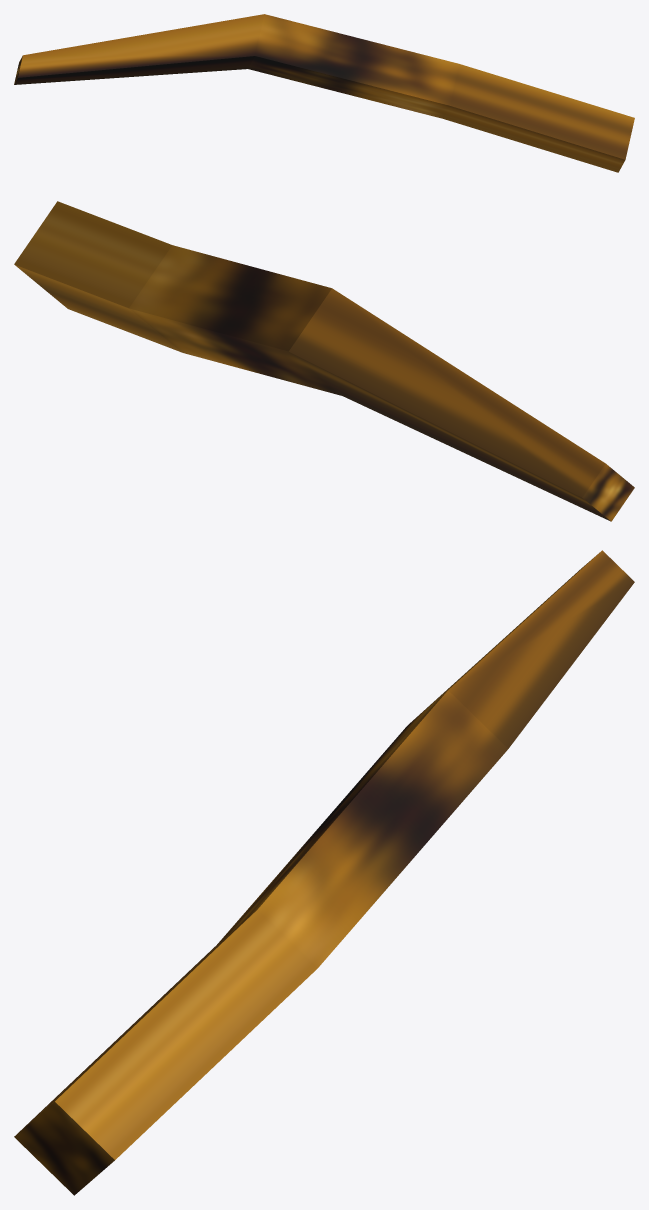
The model's file is MTree_7_B_1.gltf.
The picture shows the model from 3 angles, top to bottom: view 1: azimuth 30°, elevation 25°; view 2: azimuth 150°, elevation 25°; view 3: azimuth 270°, elevation 25°; orthographic projection. The views are drawn at different scales.
Visible parts, largest first — view 1: MTree_7_B_1; view 2: MTree_7_B_1; view 3: MTree_7_B_1.
Part boxes in pixels (x1,y1,x2,y2): MTree_7_B_1: [14, 14, 634, 172]; MTree_7_B_1: [14, 201, 634, 521]; MTree_7_B_1: [14, 550, 634, 1195].
Size of the model in its own units: 5.63 by 1.63 by 3.35.
1 material, 1 textured.
